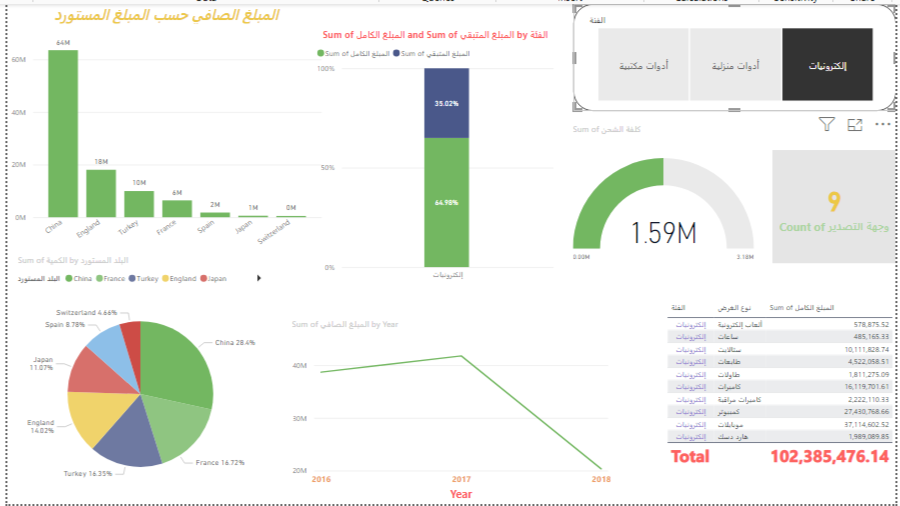

The dashboard page shown, as its layout file describes it:
{"tool":"powerbi","page":{"name":"Page 1","canvas":[1280,720],"ordinal":0},"visuals":[{"type":"columnChart","title":"المبلغ الصافي حسب المبلغ المستورد","fields":{"Category":["Table1.البلد المستورد"],"Y":["Sum(Table1.المبلغ الصافي)"]},"box":[0,0,457.9,360],"z":0},{"type":"pieChart","fields":{"Category":["Table1.البلد المستورد"],"Y":["Sum(Table1.الكمية)"]},"box":[10.1,360,362.9,360],"z":1000},{"type":"lineChart","fields":{"Y":["Sum(Table1.المبلغ الصافي)"],"Category":["Table1.تاريخ الاستيراد.Variation.Date Hierarchy.Year","Table1.تاريخ الاستيراد.Variation.Date Hierarchy.Quarter","Table1.تاريخ الاستيراد.Variation.Date Hierarchy.Month","Table1.تاريخ الاستيراد.Variation.Date Hierarchy.Day"]},"box":[404.6,452.2,469.4,267.8],"z":2000},{"type":"hundredPercentStackedColumnChart","fields":{"Y":["Sum(Table1.المبلغ الكامل)","Sum(Table1.المبلغ المتبقي)"],"Category":["Table1.الفئة"]},"box":[440.6,34.6,351.4,373],"z":3000},{"type":"tableEx","fields":{"Values":["Table1.الفئة","Table1.نوع الغرض","Sum(Table1.المبلغ الكامل)"]},"box":[944.6,421.9,335.5,298.1],"z":4000},{"type":"card","fields":{"Values":["Count(Table1.وجهة التصدير)"]},"box":[1101.6,210.2,178.6,162.7],"z":5000},{"type":"slicer","fields":{"Values":["Table1.الفئة"]},"box":[815,0,465.1,154.1],"z":6000},{"type":"gauge","fields":{"Y":["Sum(Table1.كلفة الشحن)"]},"box":[809.3,171.4,270.7,236.2],"z":7000}]}

Visuals, with their boxes in screenshot pixels (x1, y1, x2, y2), scaled from the page's 1280x720 canvas onto the 900x506 screenshot:
"المبلغ الصافي حسب المبلغ المستورد" columnChart: 0:0:322:253
pieChart - Table1.البلد المستورد x Sum(Table1.الكمية): 7:253:262:505
lineChart - Sum(Table1.المبلغ الصافي) x Table1.تاريخ الاستيراد.Variation.Date Hierarchy.Year: 284:318:615:505
hundredPercentStackedColumnChart - Sum(Table1.المبلغ الكامل) x Sum(Table1.المبلغ المتبقي): 310:24:557:286
tableEx - Table1.الفئة x Table1.نوع الغرض: 664:297:899:505
card - Count(Table1.وجهة التصدير): 775:148:899:262
slicer - Table1.الفئة: 573:0:899:108
gauge - Sum(Table1.كلفة الشحن): 569:120:759:286
